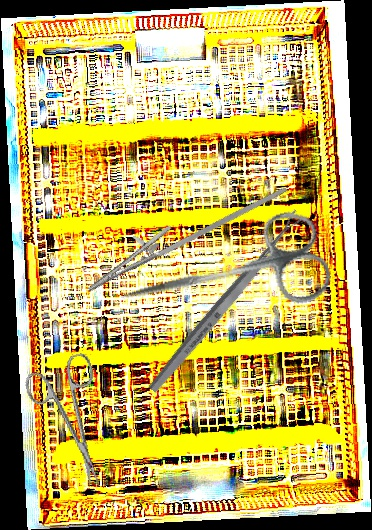Iris Scissors: (110, 204, 336, 346), (21, 351, 125, 496)
Needle Holder: (78, 150, 288, 315)
Surgical Spoon: (145, 208, 307, 396)
